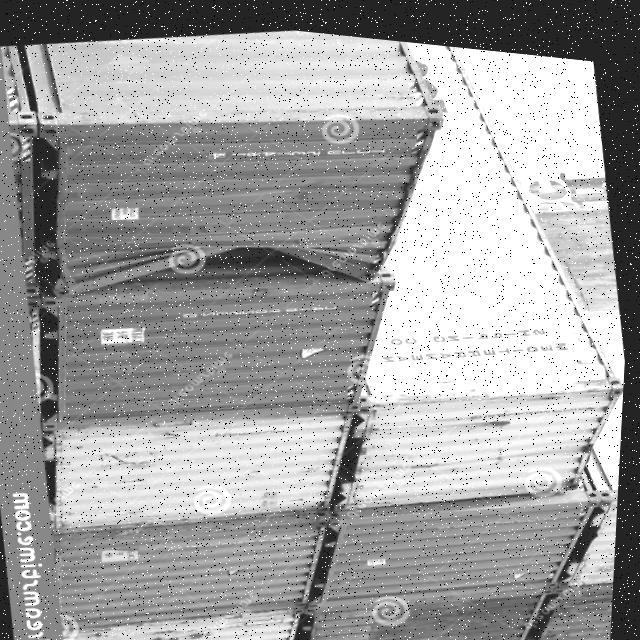dent: (25, 178, 415, 355)
